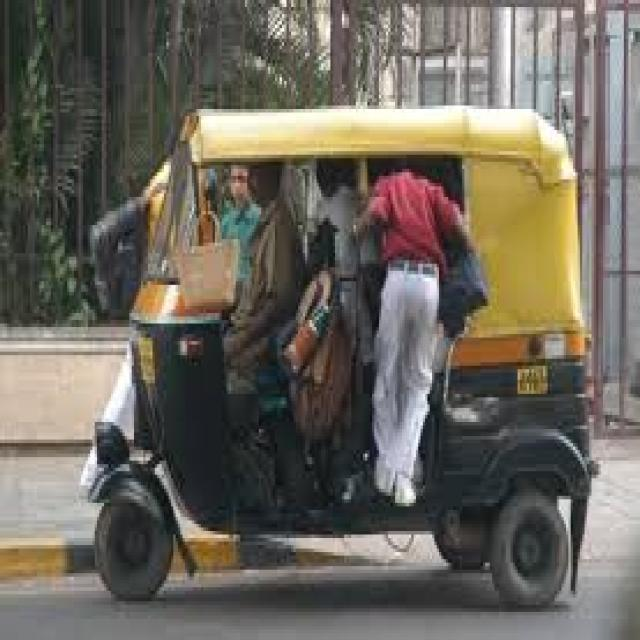person: (360, 172, 469, 506), (224, 162, 298, 394), (219, 165, 259, 281)
three wheeler: (90, 109, 589, 605)
